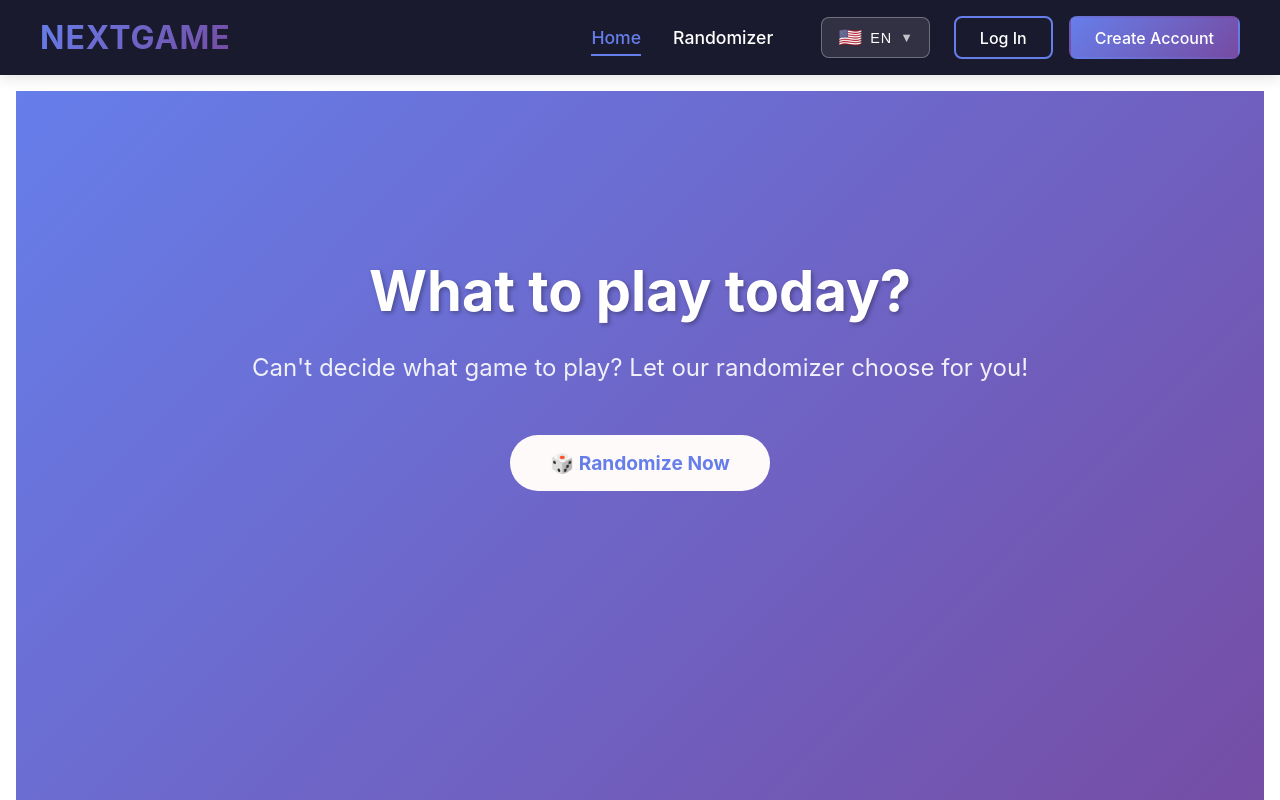
Локалізація › повинен змінювати мову інтерфейсу
The width and height of the screenshot is (1280, 800).
Click the button with aria-label "Change language": (876, 38) [821, 17, 930, 58]
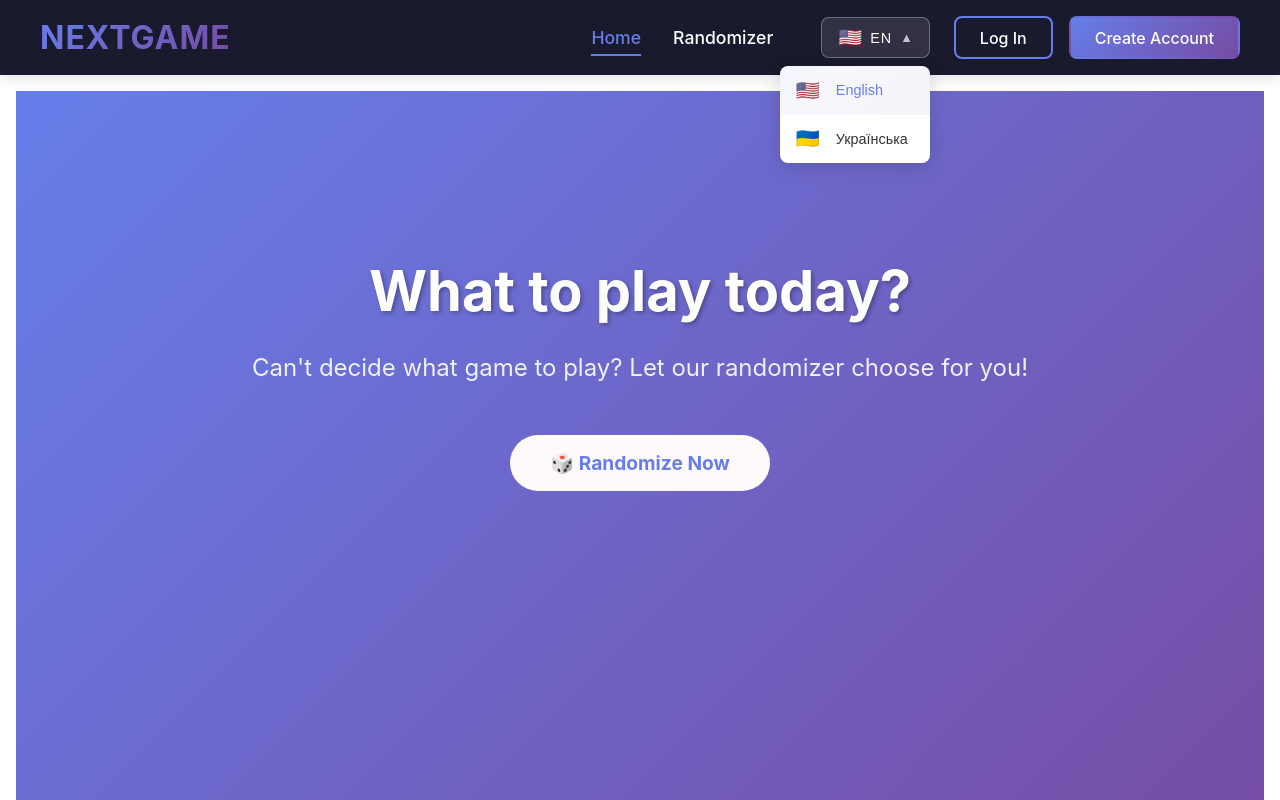
Result: the button "🇺🇦 Українська" is shown
Click the button "🇺🇦 Українська": (855, 140) [780, 115, 930, 164]
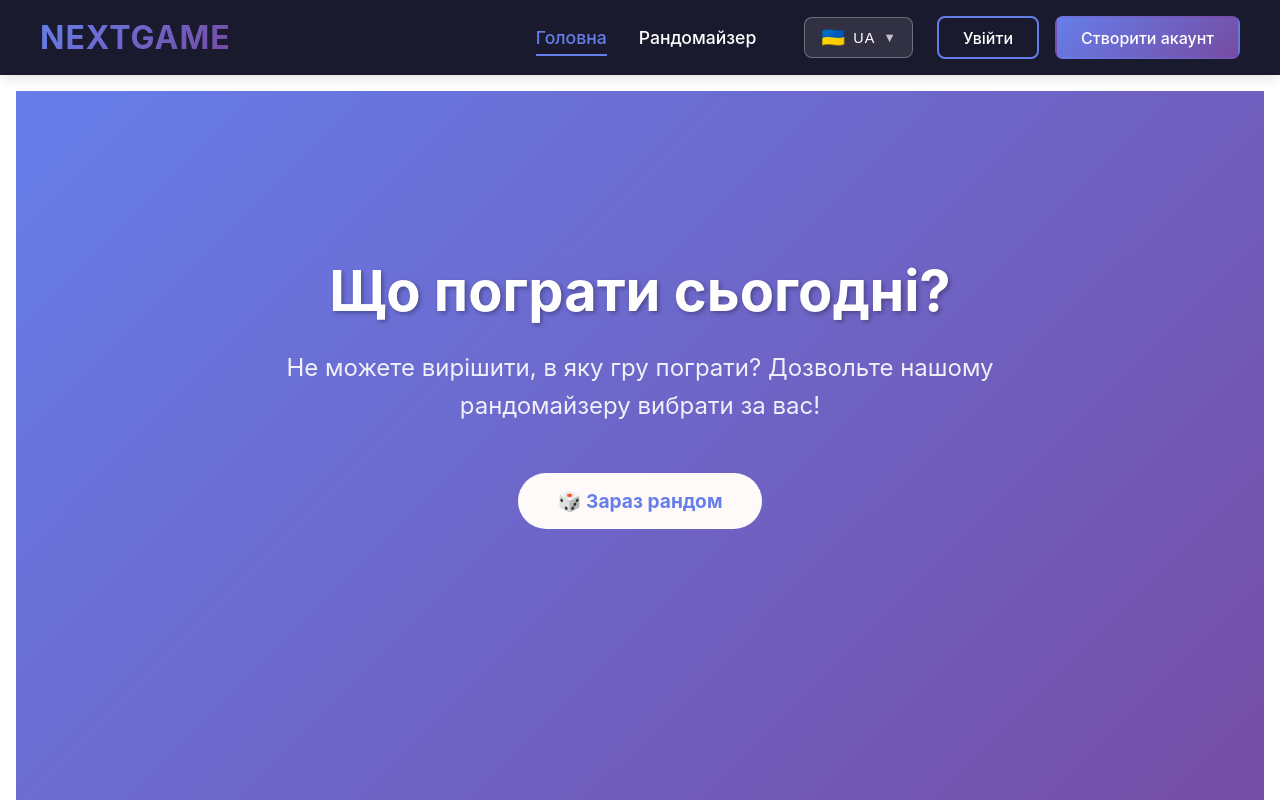
Result: the heading "Що пограти сьогодні?" is shown at [329, 257, 951, 325]
Click the button with aria-label "Change language": (859, 38) [804, 17, 913, 58]
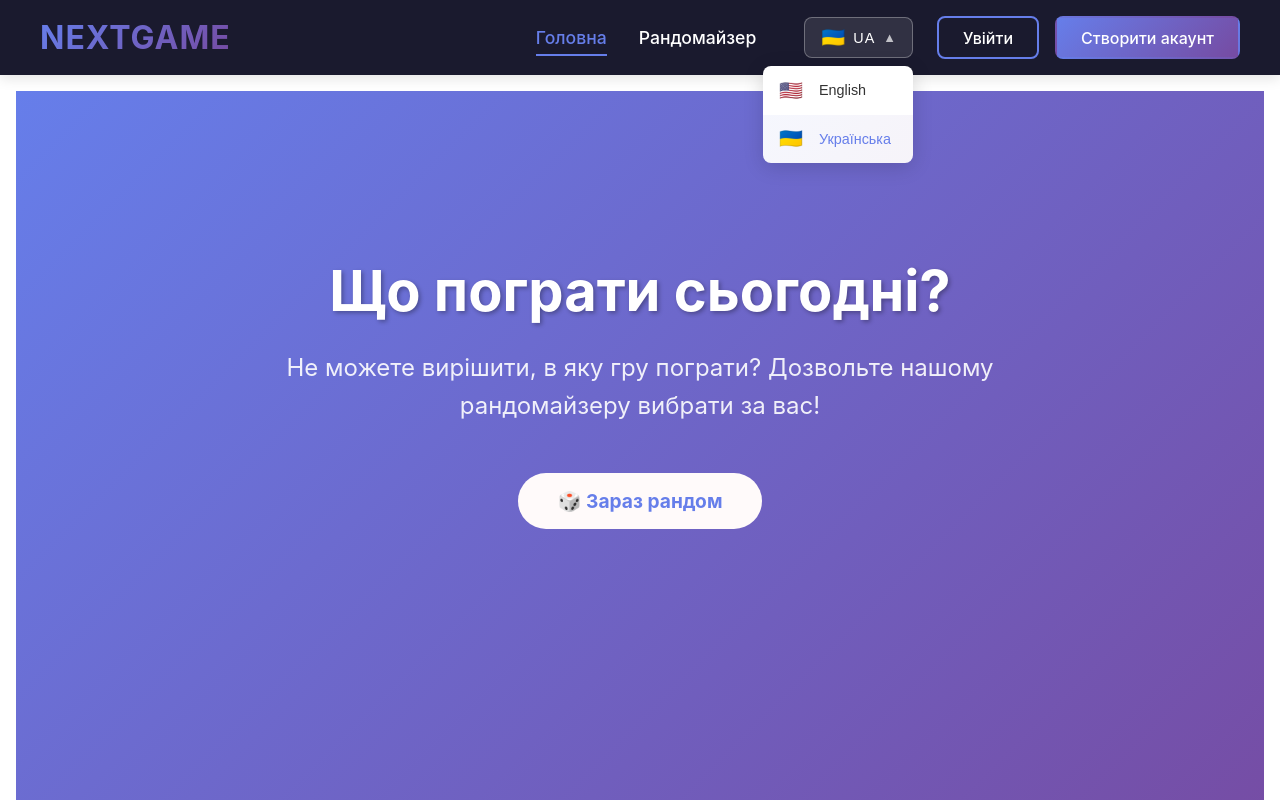
Result: the button "🇺🇸 English" is shown
Click the button "🇺🇸 English": (838, 91) [763, 66, 913, 115]
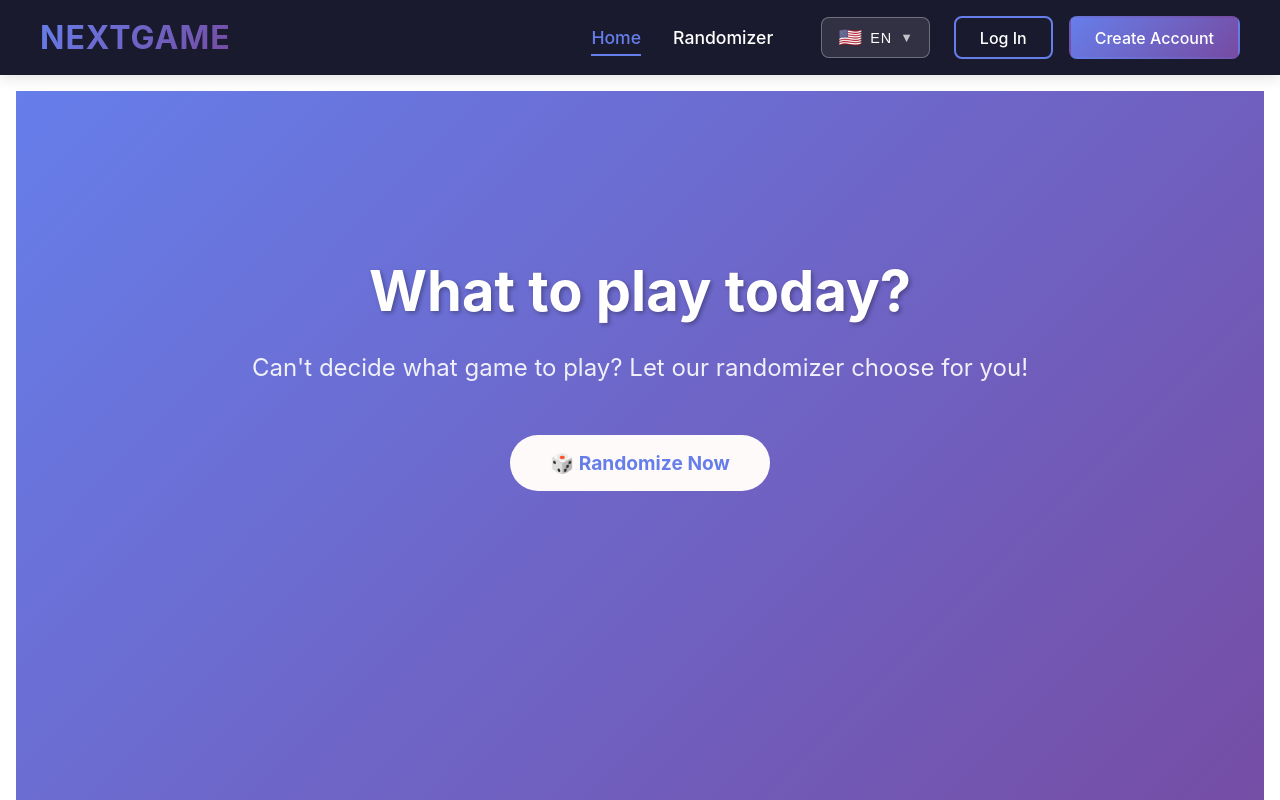
Result: the heading "What to play today?" is shown at [369, 257, 911, 325]
